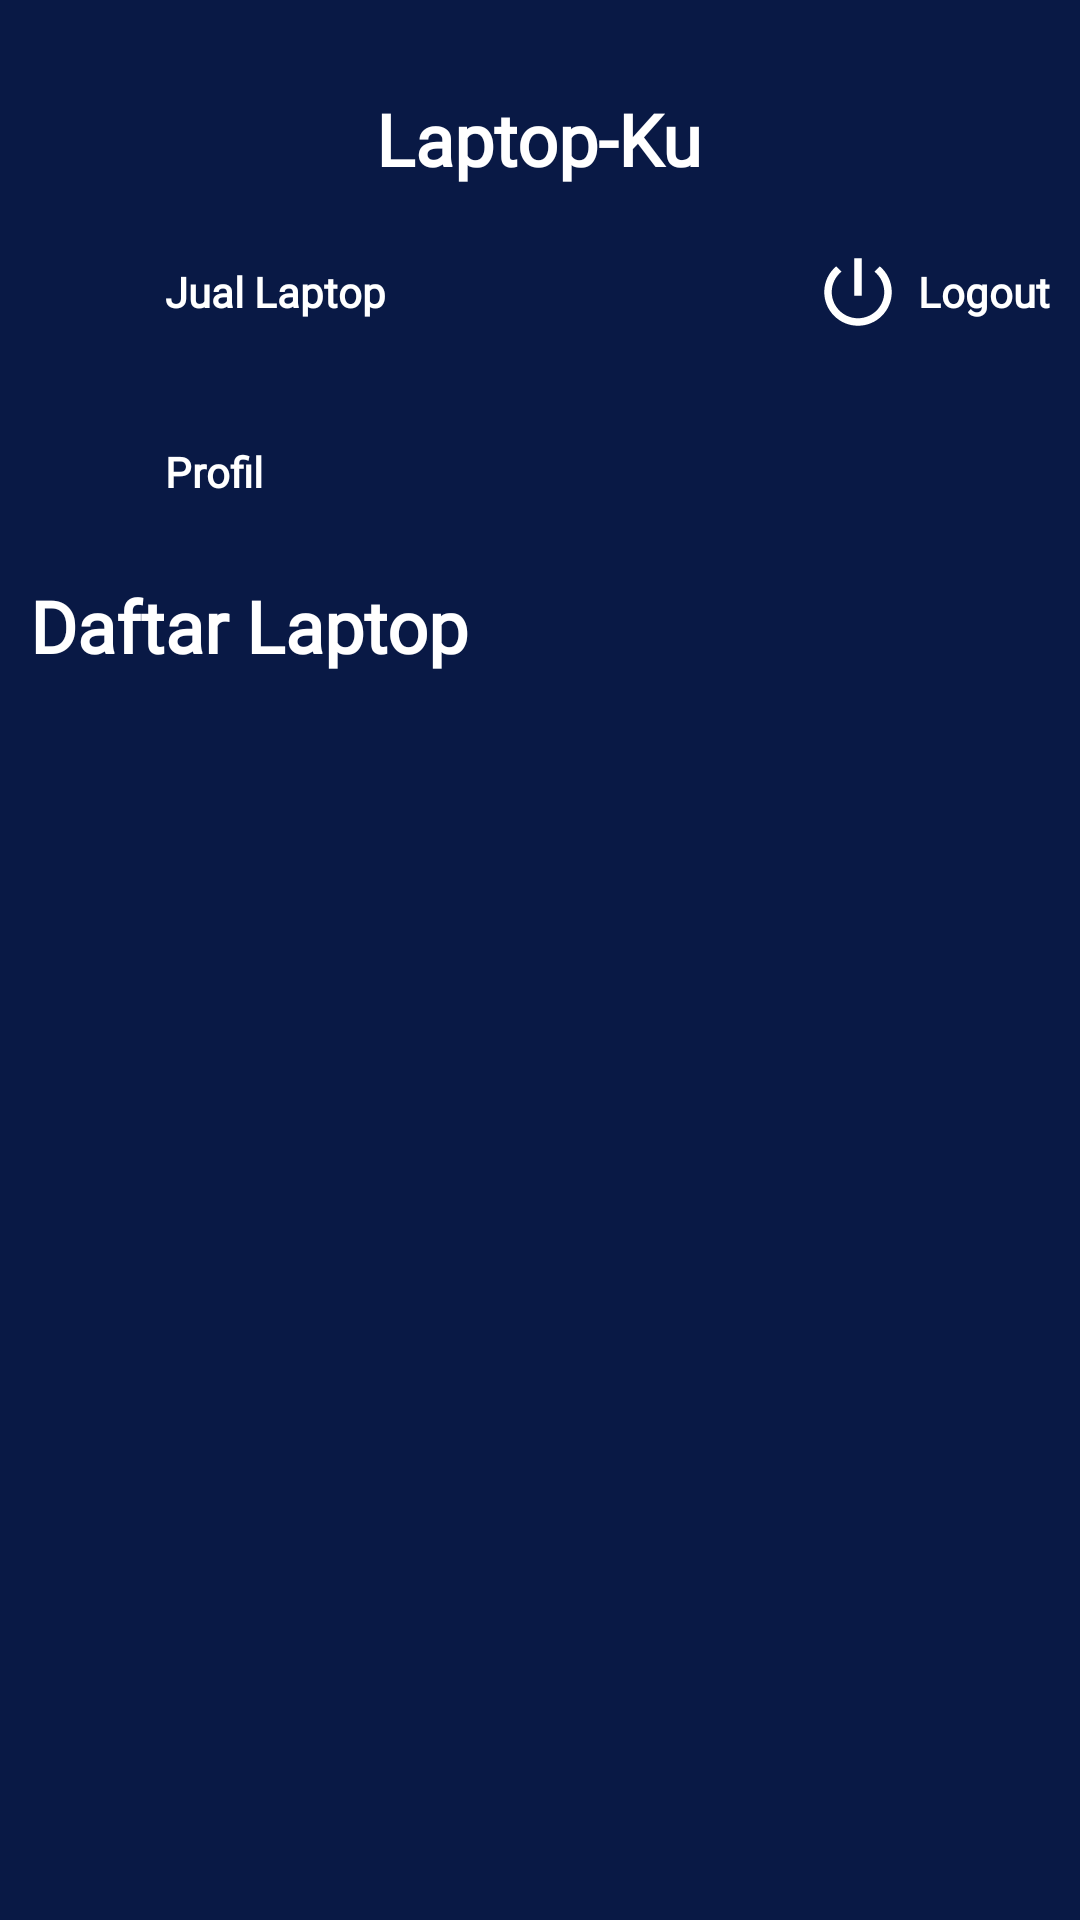

Screen size 1080 x 1920. Icon name, then its box in pixels as (x1, y1, x2, y2):
power settings: (824, 258, 892, 326)
